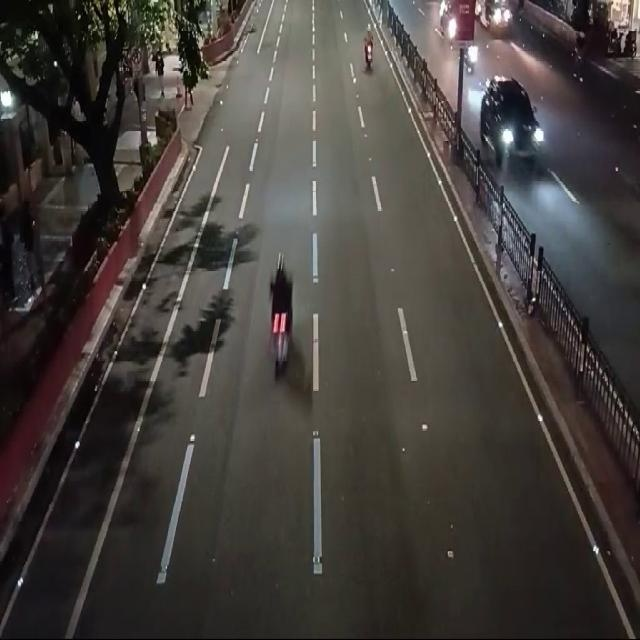car: (469, 65, 555, 185)
motorcycle: (262, 232, 299, 390), (359, 13, 380, 85)
